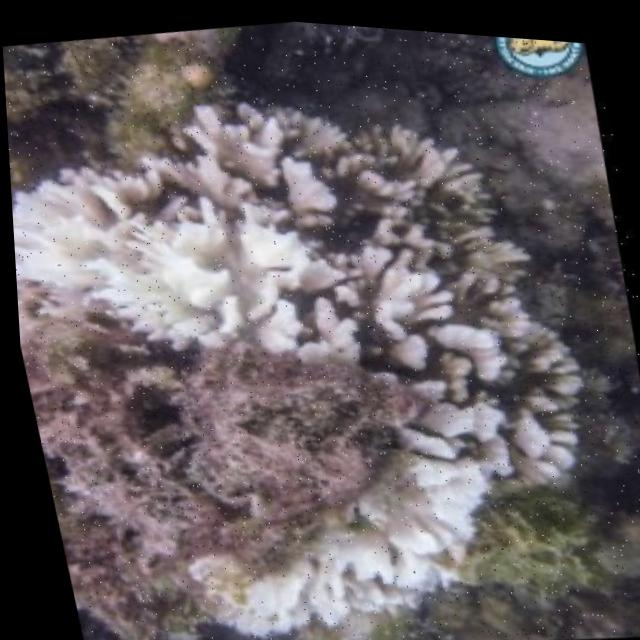Bleached Coral: (5, 98, 447, 416), (111, 402, 548, 640)
